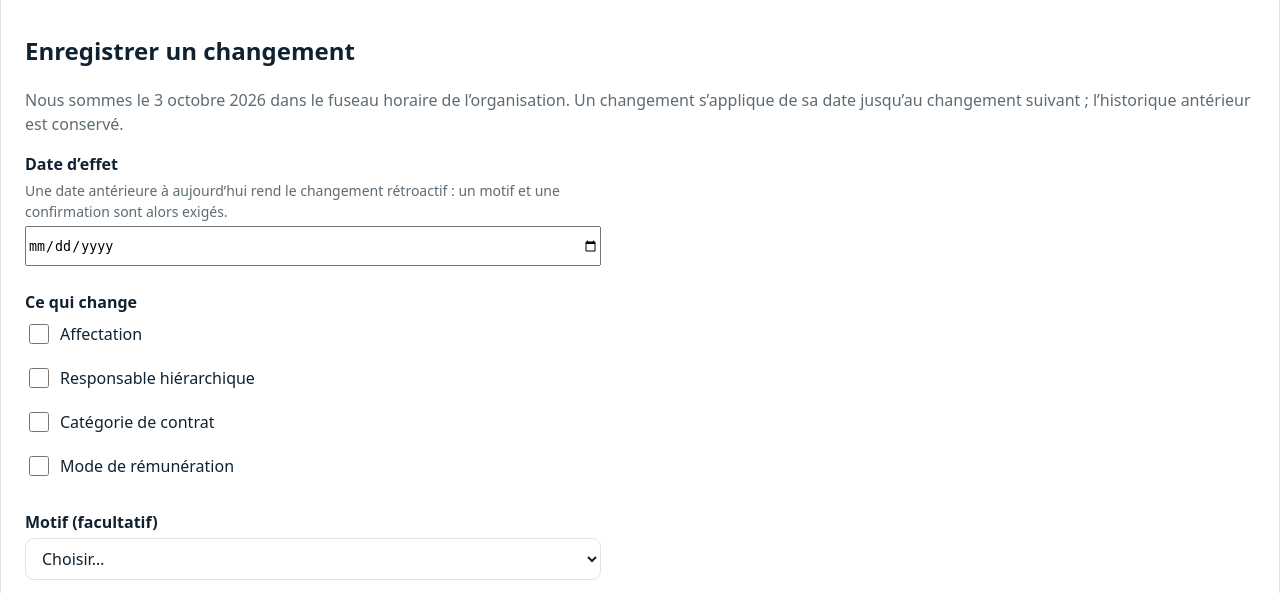
Test: employment history (fr) › shows a stale preview and an invalid manager without echoing values
This screenshot has width=1280, height=593.
(page scrolled)
Type "2026-11-01" into the date field labelled "Date d’effet" at point(313, 246), box 25,226 -> 601,266
Click the checkbox labelled "Responsable hiérarchique" at point(39, 378), box 29,368 -> 49,388
(page scrolled)
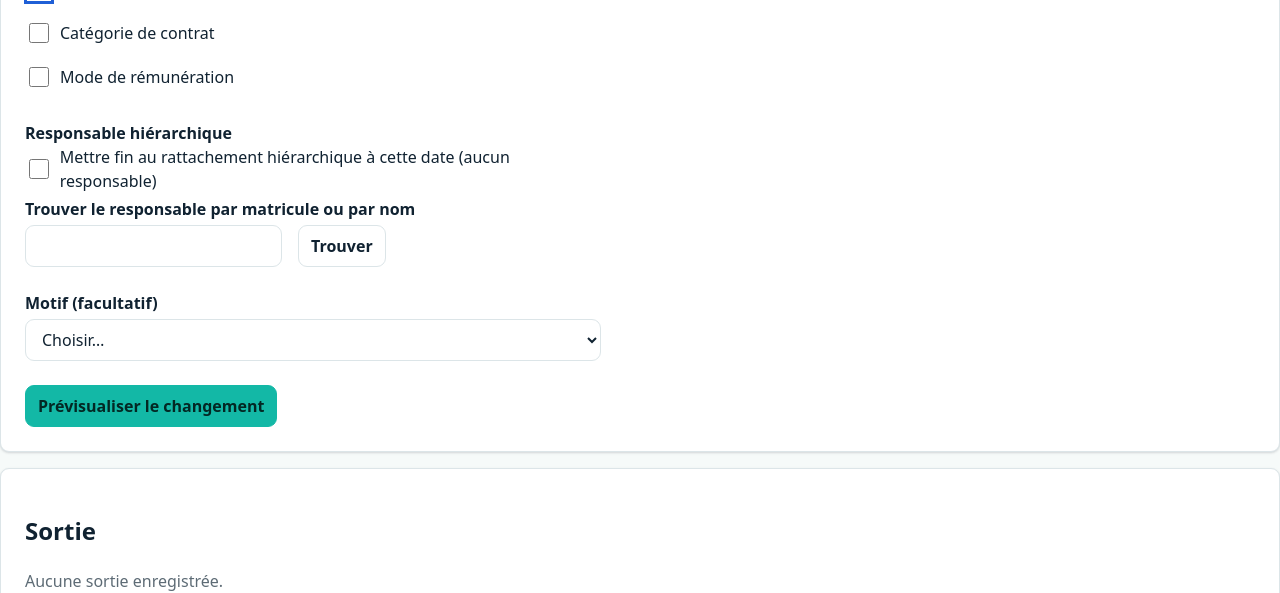
Type "muk" into the field labelled "Trouver le responsable par matricule ou par nom" at point(154, 246), box 25,225 -> 282,267
Click the button "Trouver" at point(342, 246), box 298,225 -> 386,267
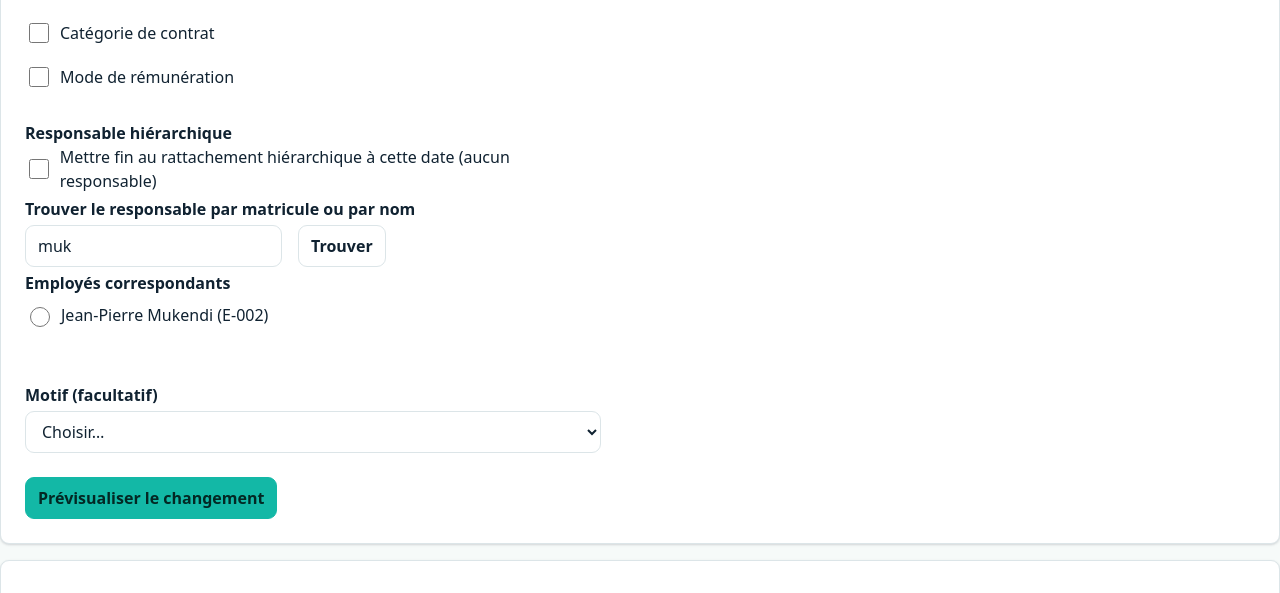
Click the radio button at point(40, 317), box 30,307 -> 50,327
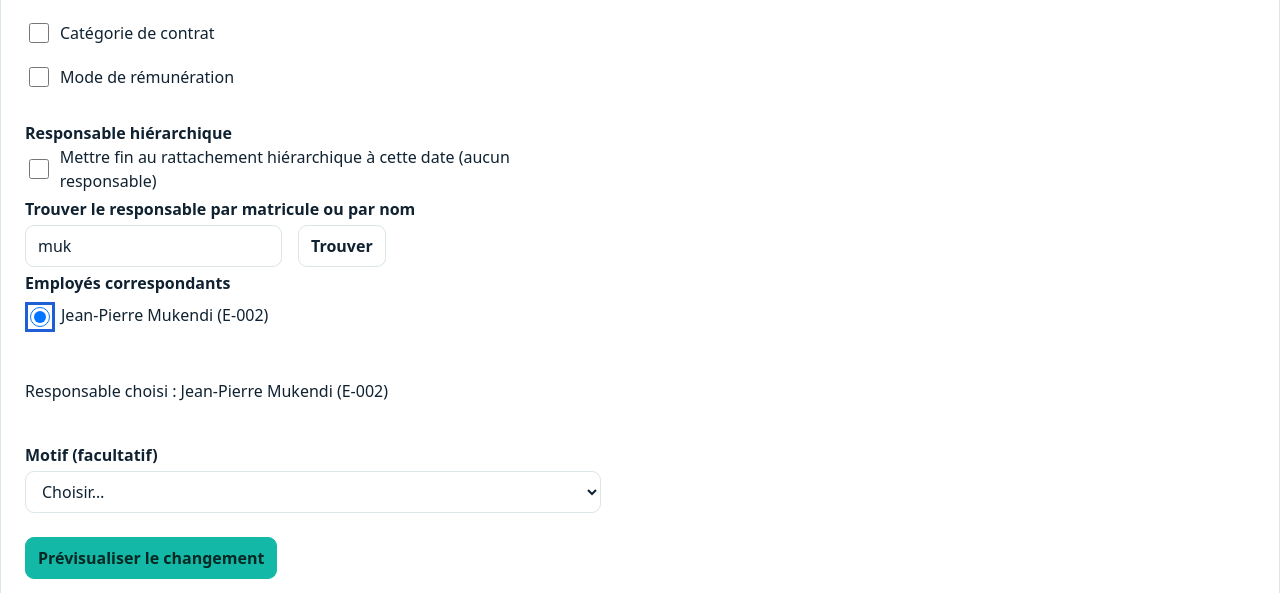
expect the text with test id "manager-selected" shows "Jean-Pierre Mukendi": met, box 25,380 -> 388,402
Click the button "Prévisualiser le changement" at point(151, 558), box 25,537 -> 278,579
(page scrolled)
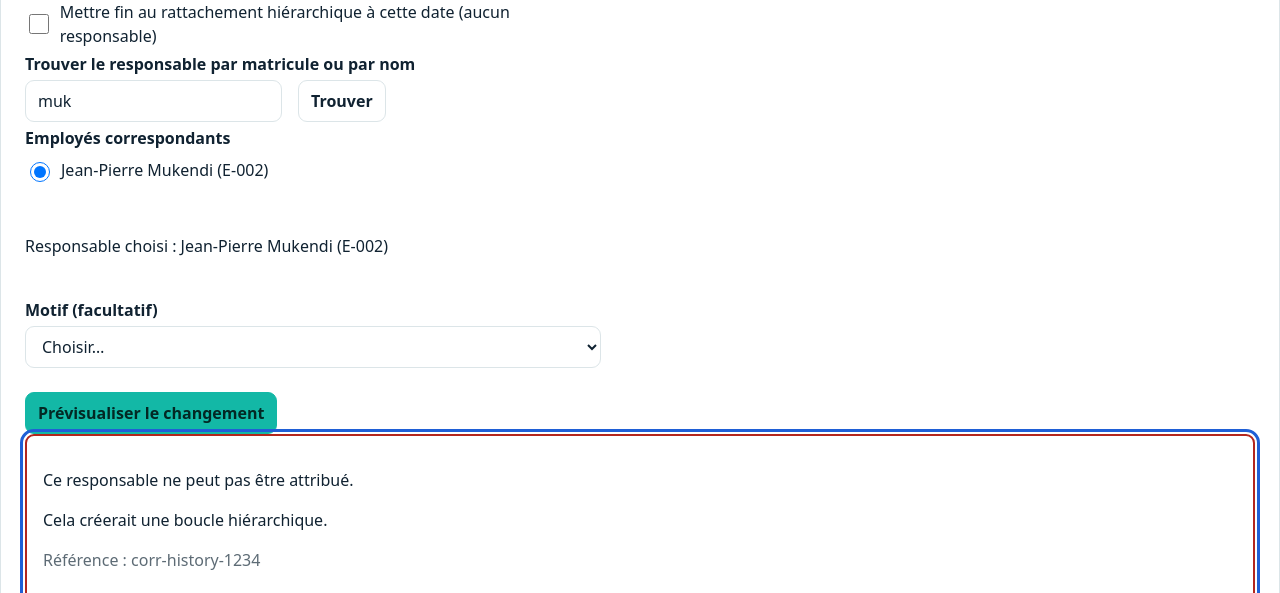
expect the message with test id "change-error" shows "Ce responsable ne peut pas être attribué.": met, box 43,469 -> 354,491
expect the message with test id "change-error" shows "Cela créerait une boucle hiérarchique.": met, box 43,509 -> 327,531
expect the message with test id "change-error" shows "corr-history-1234": met, box 43,549 -> 260,571
Click the button "Prévisualiser le changement" at point(151, 413), box 25,392 -> 278,434
(page scrolled)
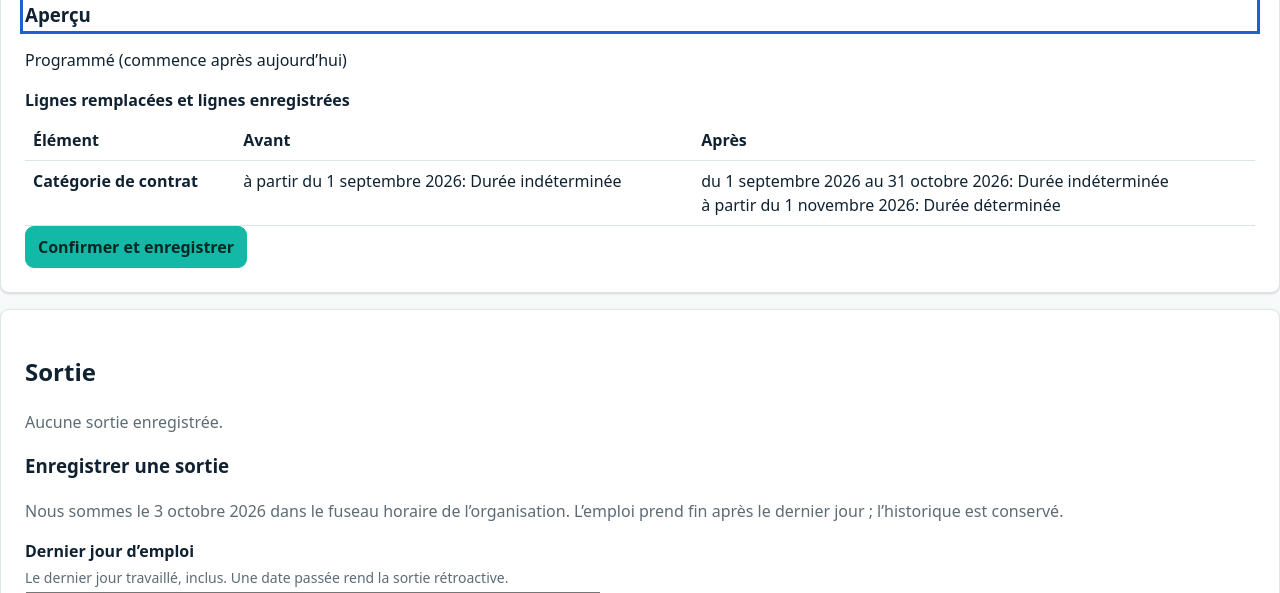
Click the button "Confirmer et enregistrer" at point(136, 247), box 25,226 -> 247,268
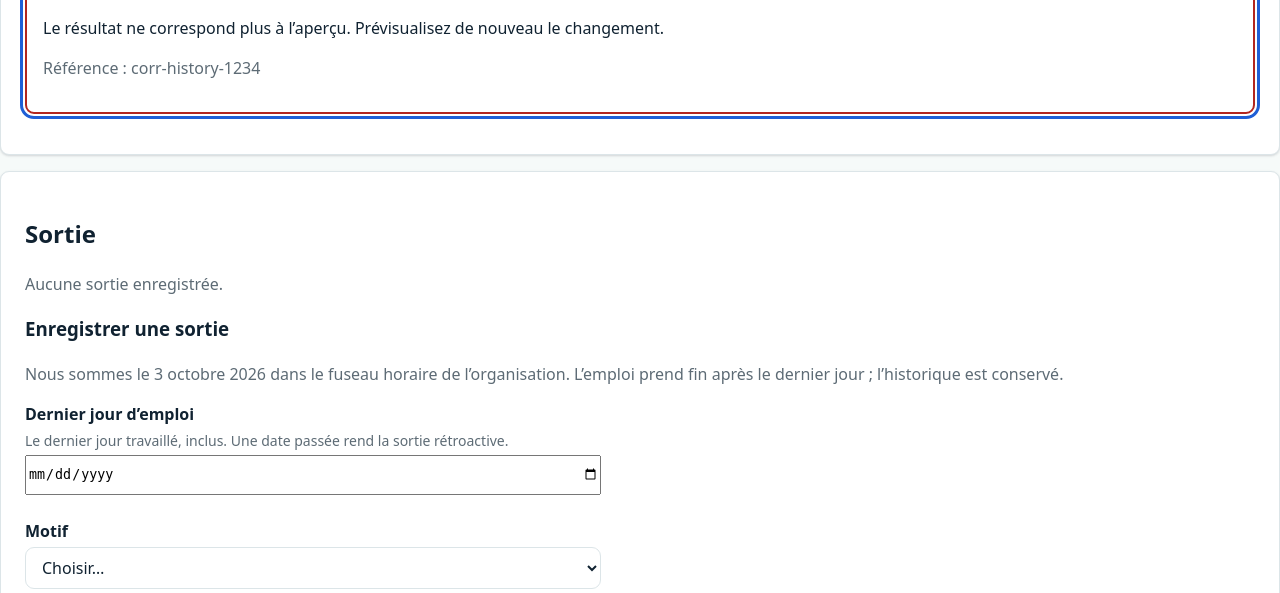
expect the element with test id "change-preview" is gone: met
